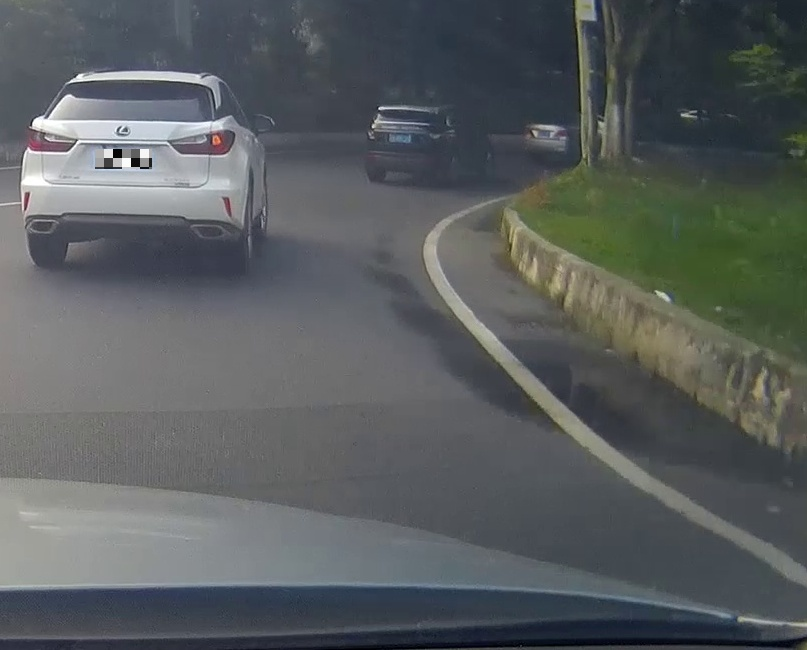L_light: (27, 127, 77, 153), (367, 130, 383, 140)
R_light: (169, 129, 235, 156), (430, 131, 451, 140)
T_light: (116, 80, 149, 86), (401, 109, 417, 115)
day-no: (365, 102, 454, 184)
day-right: (21, 70, 243, 274)
plate_1: (95, 149, 152, 169)
